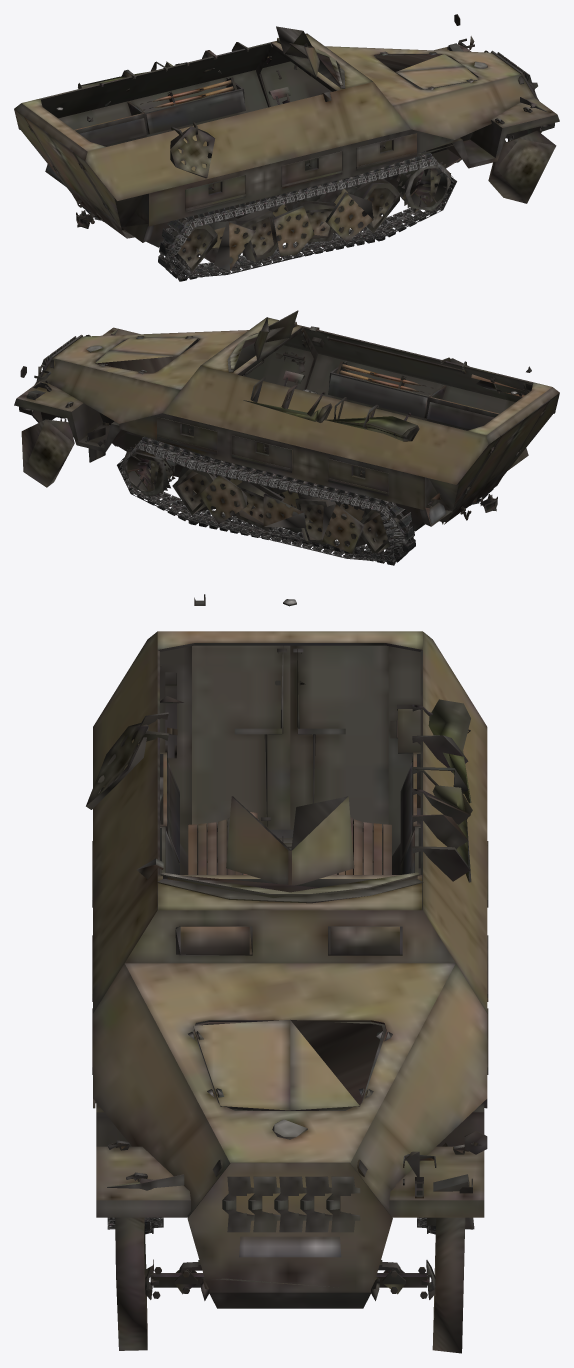
File: sdkfz251.glb
3 renders of one model, top to bottom at view 1: azimuth 30°, elevation 25°; view 2: azimuth 150°, elevation 25°; view 3: azimuth 270°, elevation 25°, orthographic. The views are drawn at different scales.
Parts seen in each view (by area): view 1: body Preview, trackl Preview; view 2: body Preview, trackl Preview; view 3: body Preview.
Part boxes in pixels (<box>): body Preview: <box>14,14,559,272</box>; trackl Preview: <box>80,151,456,281</box>; body Preview: <box>14,310,559,553</box>; trackl Preview: <box>117,436,493,565</box>; body Preview: <box>86,594,488,1353</box>.
Bounding box in the file's own units: 5.82 × 2.13 × 2.09.
Materials: 2 (2 with a texture image).
